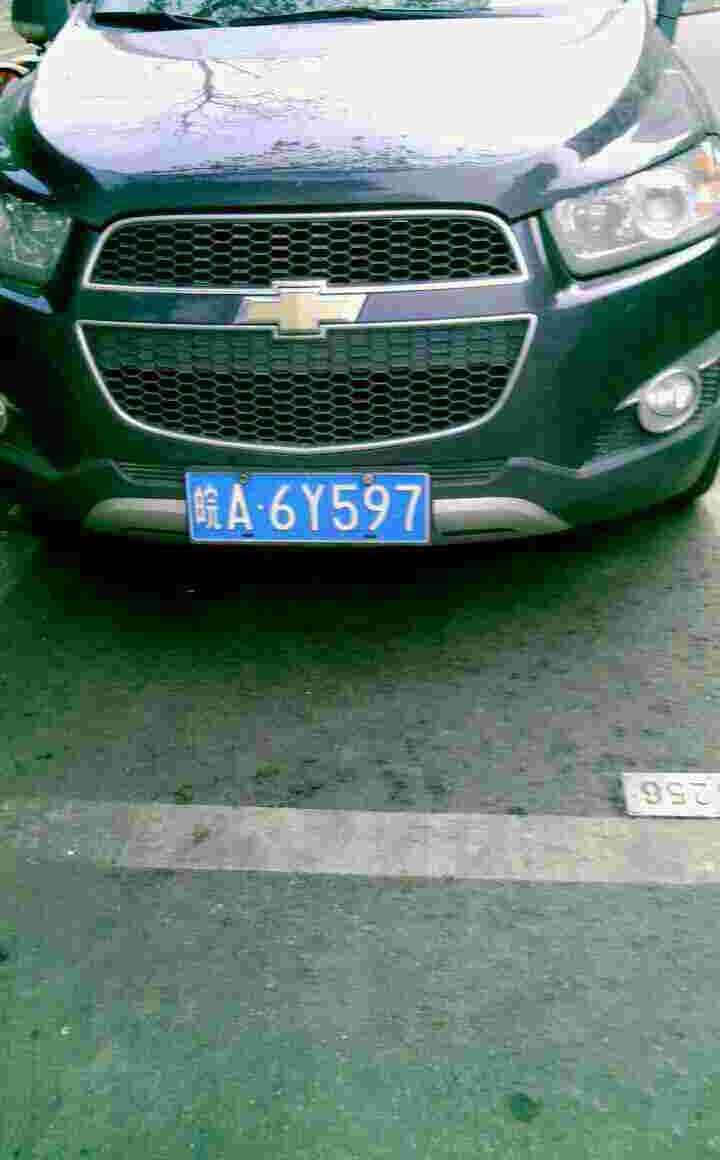license_plate: (191, 478, 427, 546)
